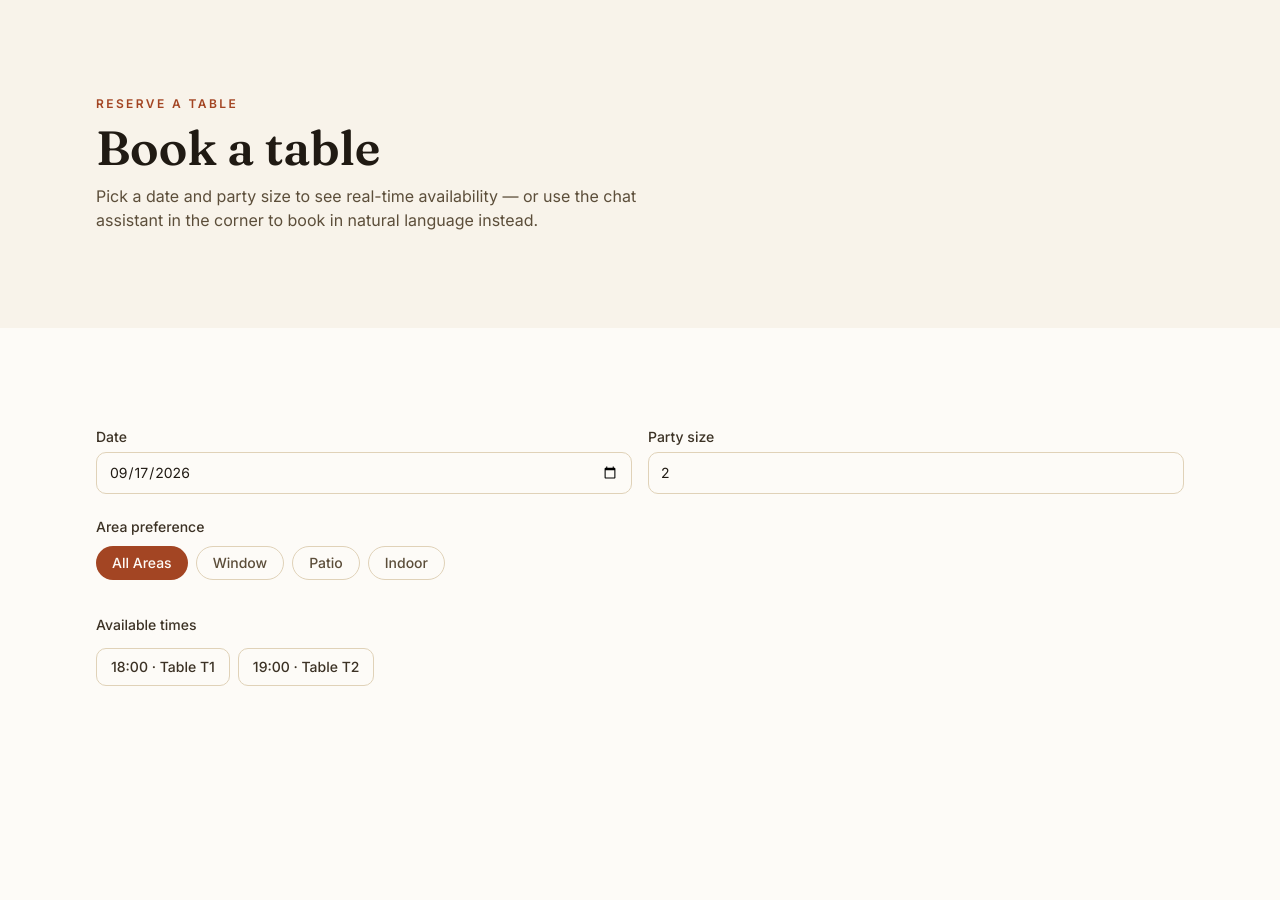
Scenario: Book a table flow › shows the API error message when booking fails (e.g. slot taken concurrently)
Click the button "18:00 · Table T1" at [163, 667], box [96, 648, 230, 686]
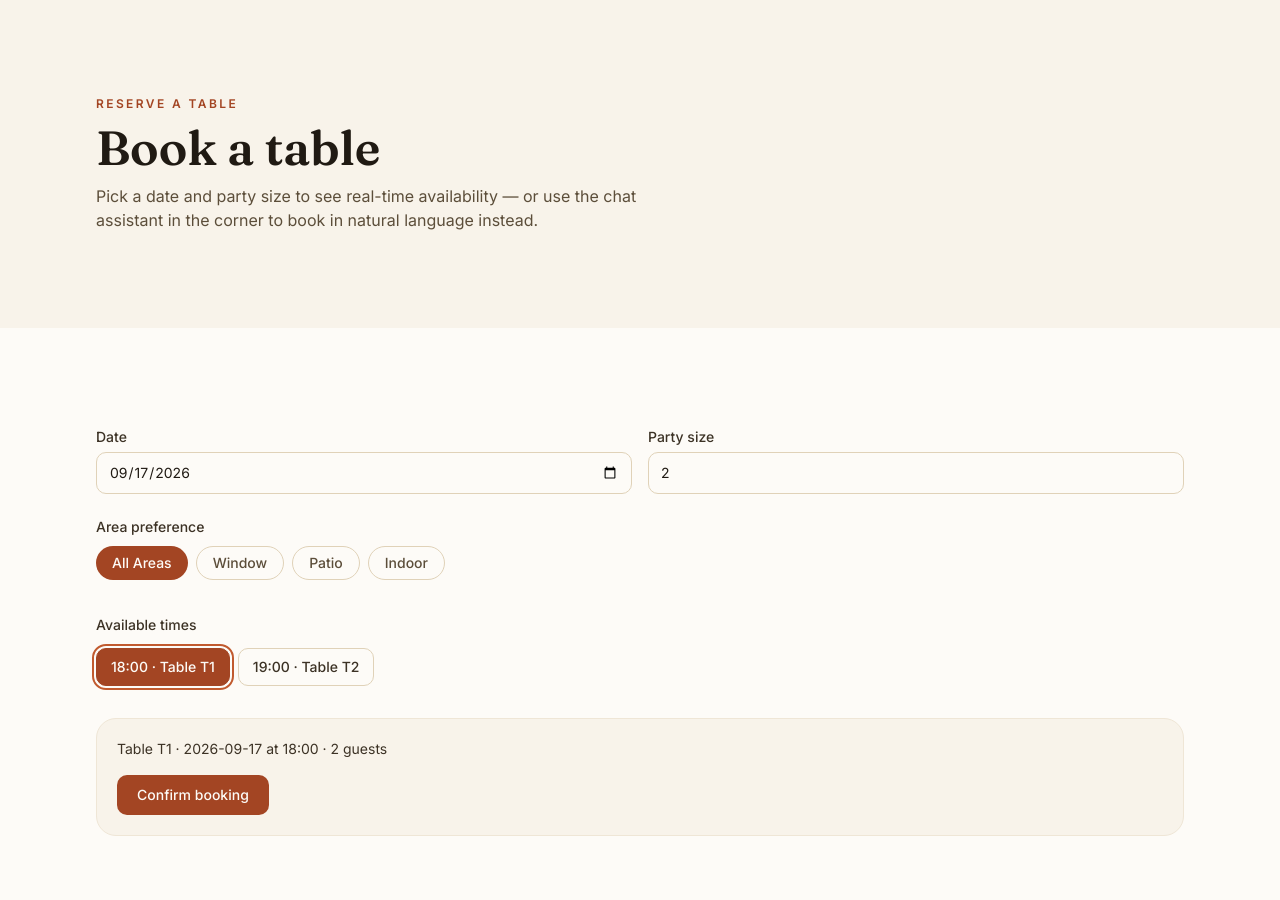
Click the button "Confirm booking" at [193, 795], box [117, 775, 269, 815]
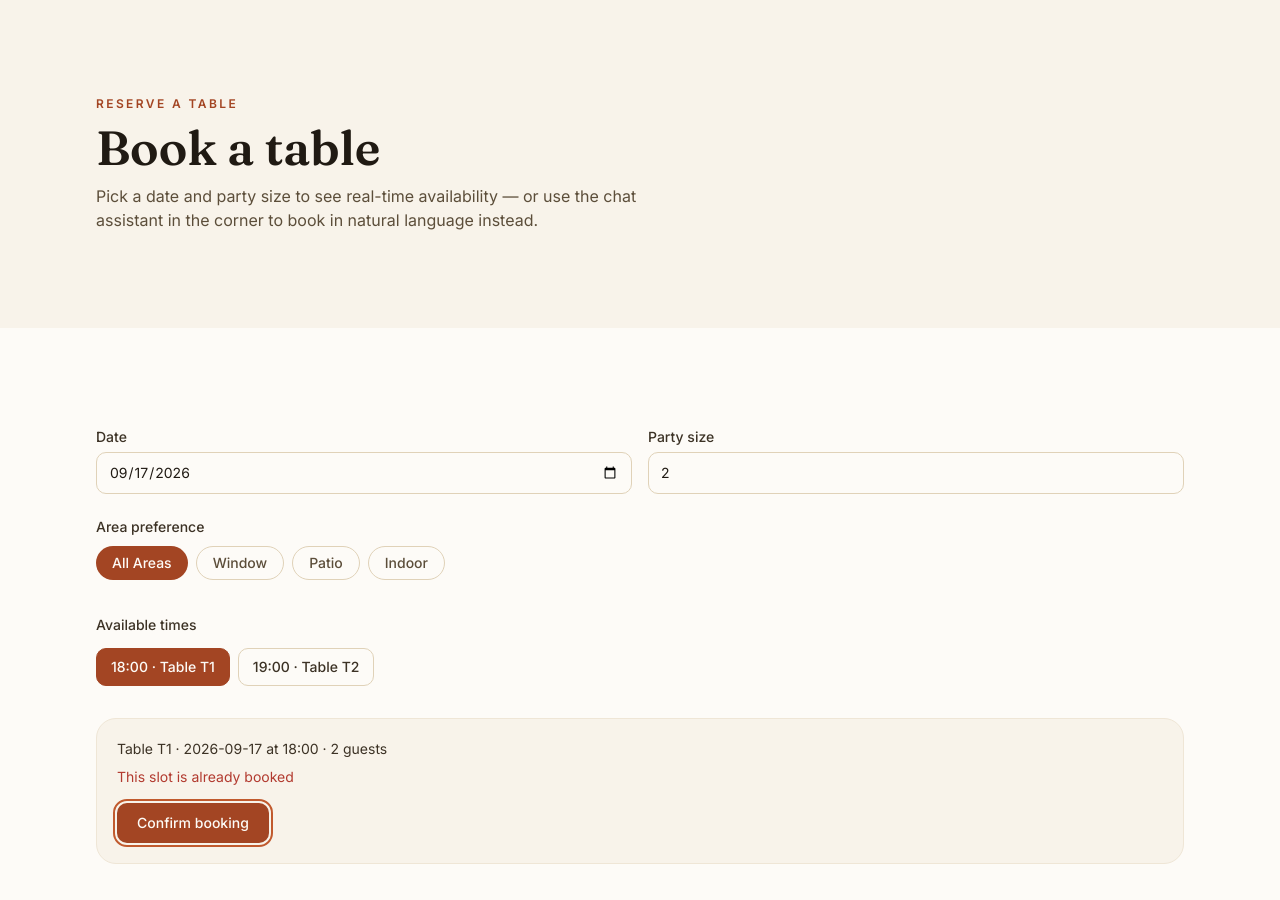
Now the text "This slot is already booked" is shown, box [117, 768, 294, 785]
